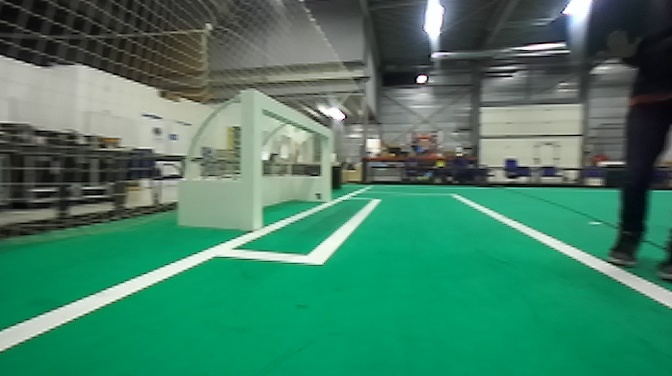goalpost: (234, 81, 274, 238), (316, 116, 339, 213)
human: (601, 4, 672, 310)
